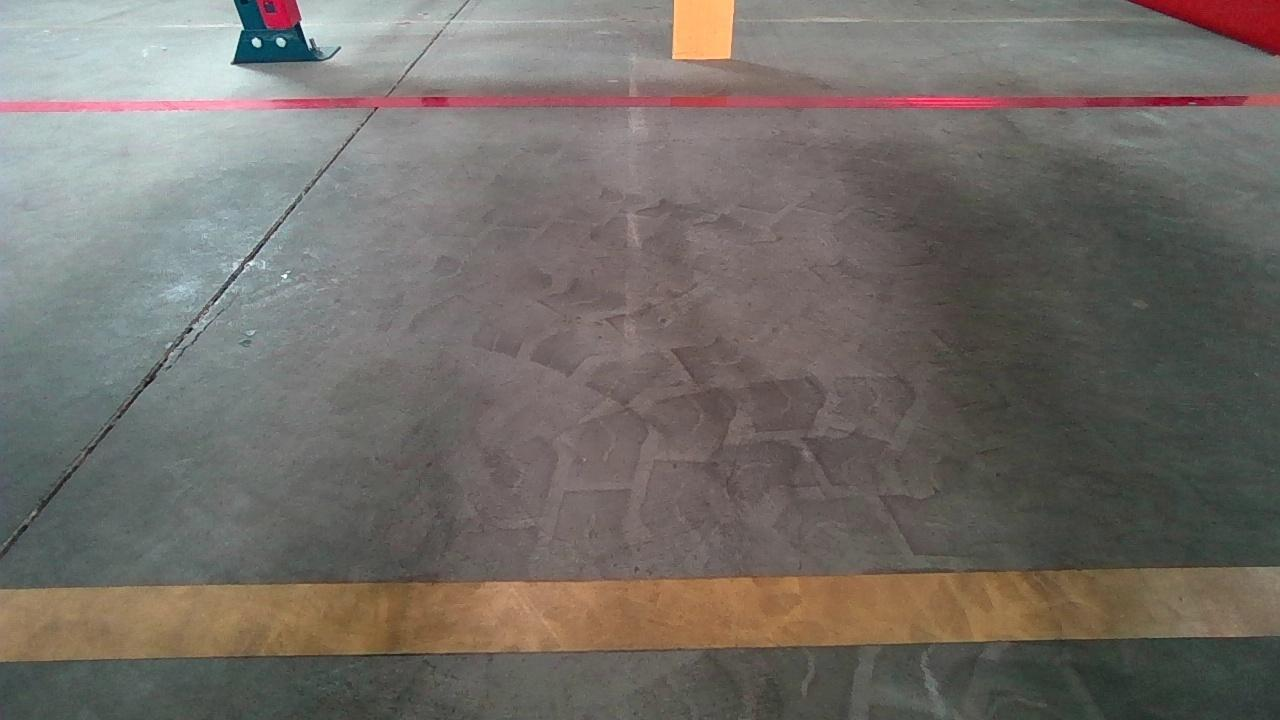orange_strip: (673, 0, 735, 59)
yellow_line: (0, 562, 1275, 666)
